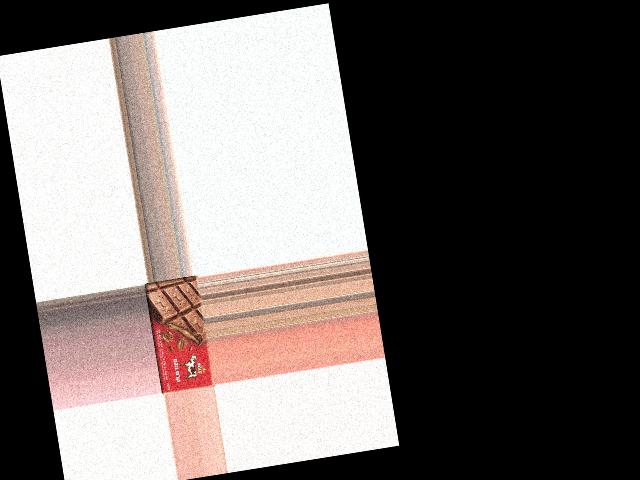chocolate: (145, 276, 215, 395)
